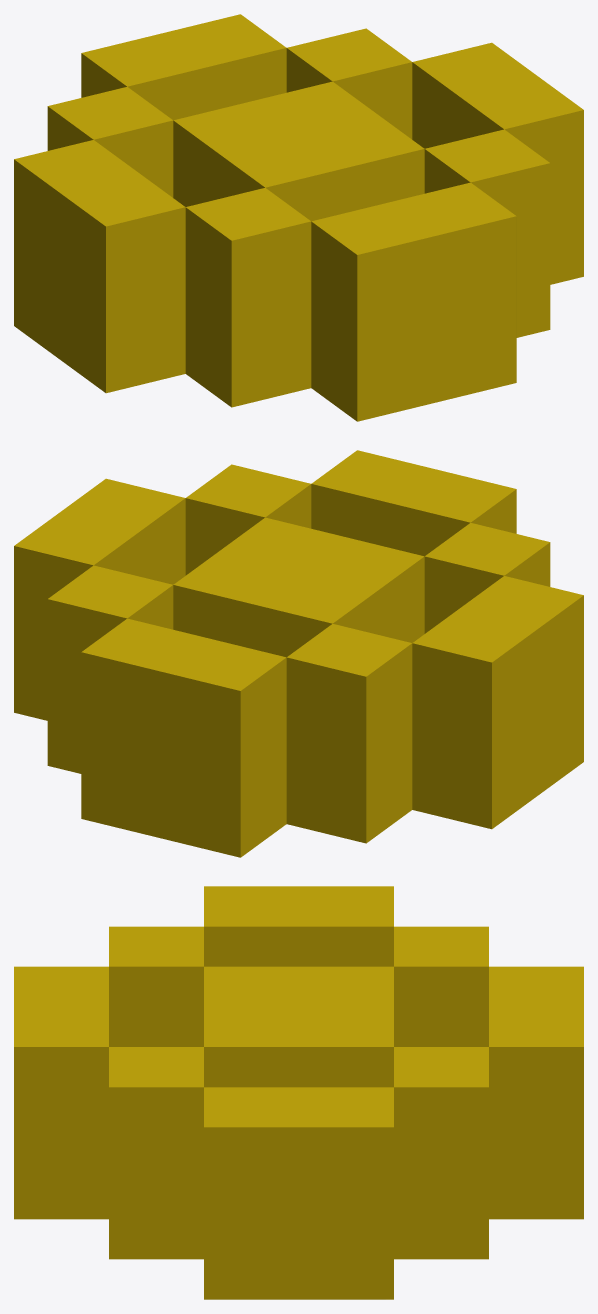
The model's file is Coins_1_Gold.glb.
3 renders of one model, top to bottom at view 1: azimuth 30°, elevation 25°; view 2: azimuth 150°, elevation 25°; view 3: azimuth 270°, elevation 25°, orthographic. The views are drawn at different scales.
Visible parts, largest first — view 1: Coins_1_Gold; view 2: Coins_1_Gold; view 3: Coins_1_Gold.
Part boxes in pixels (left/top/right/bottom): Coins_1_Gold: left=14, top=14, right=583, bottom=421; Coins_1_Gold: left=14, top=450, right=583, bottom=857; Coins_1_Gold: left=14, top=886, right=583, bottom=1299.
Bounding box in the file's own units: 0.6 × 0.2 × 0.6.
1 material, 1 textured.
